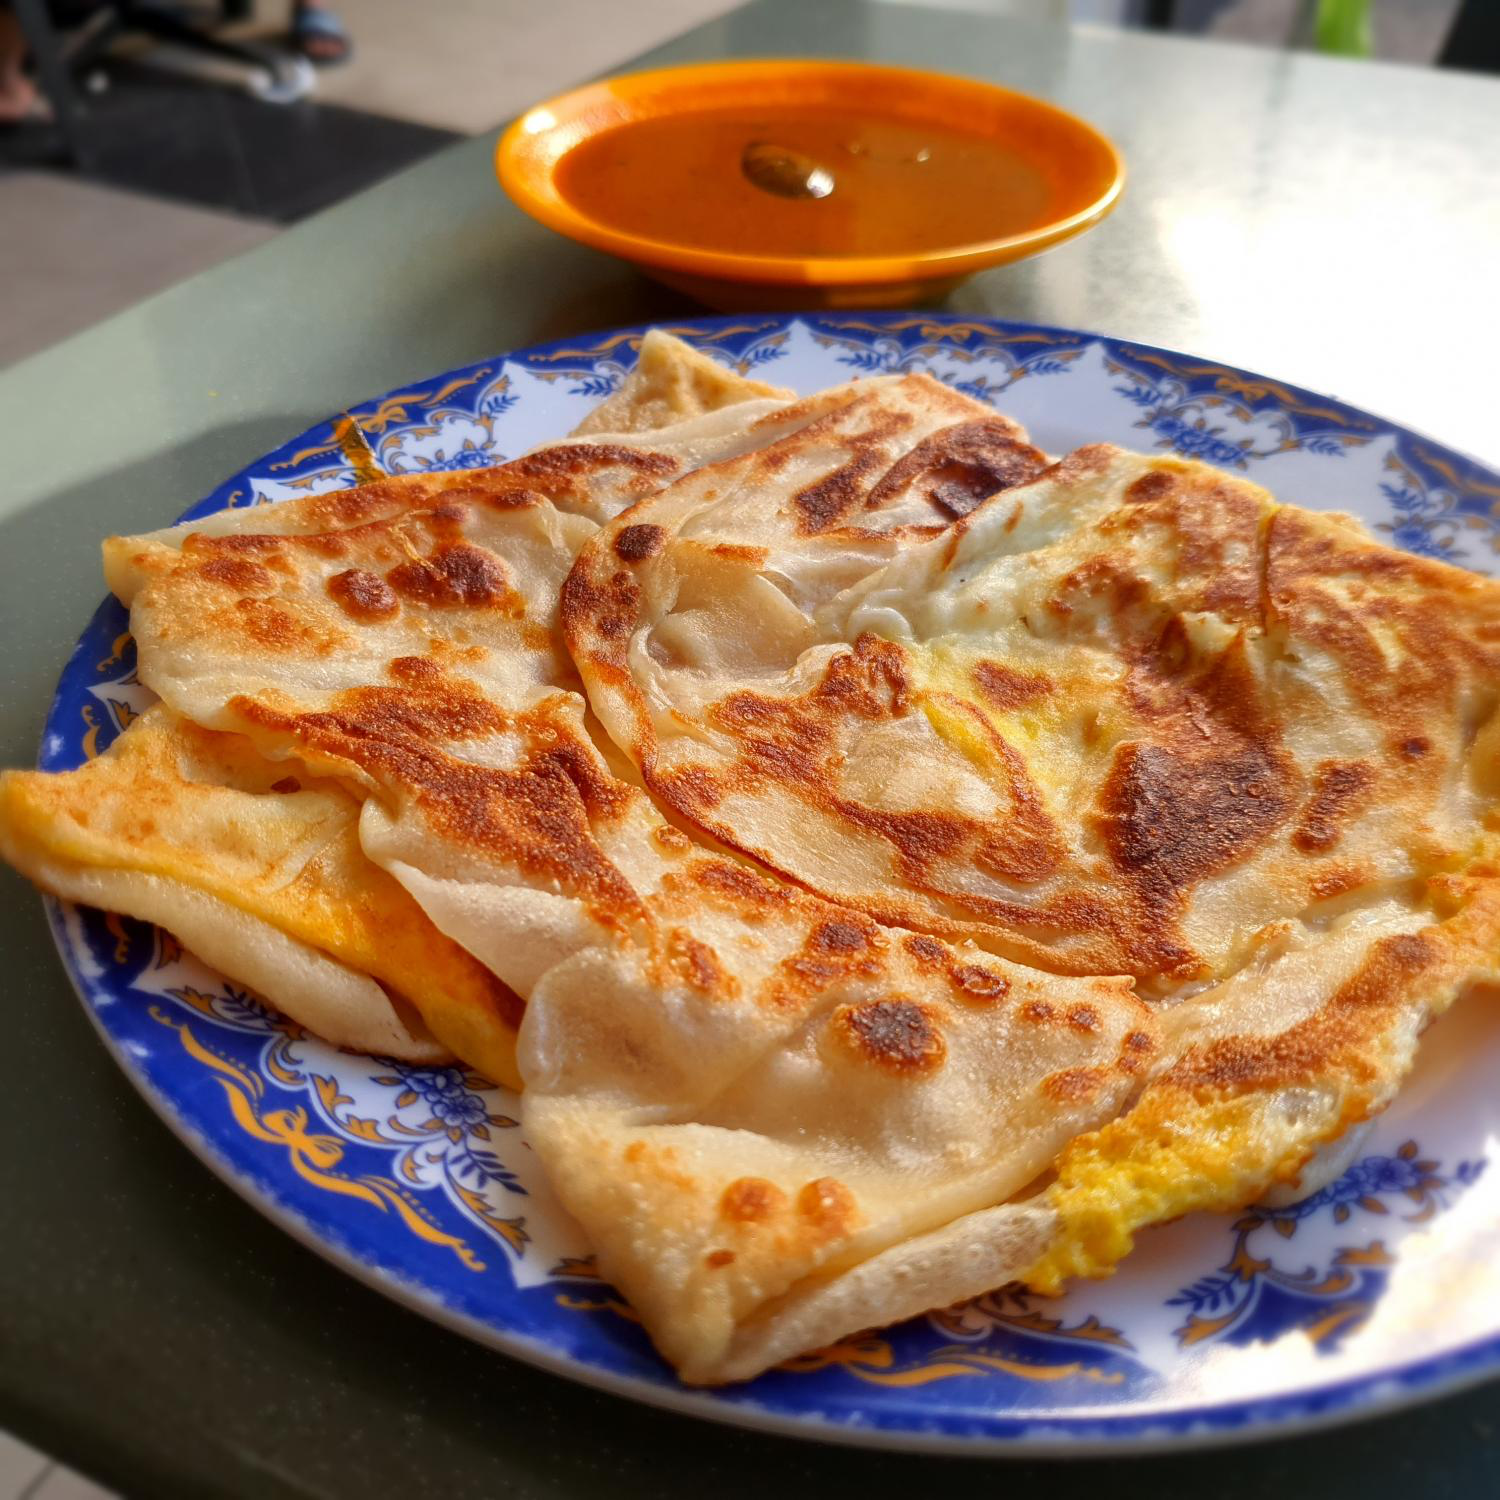Prata: (157, 385, 1499, 1342)
